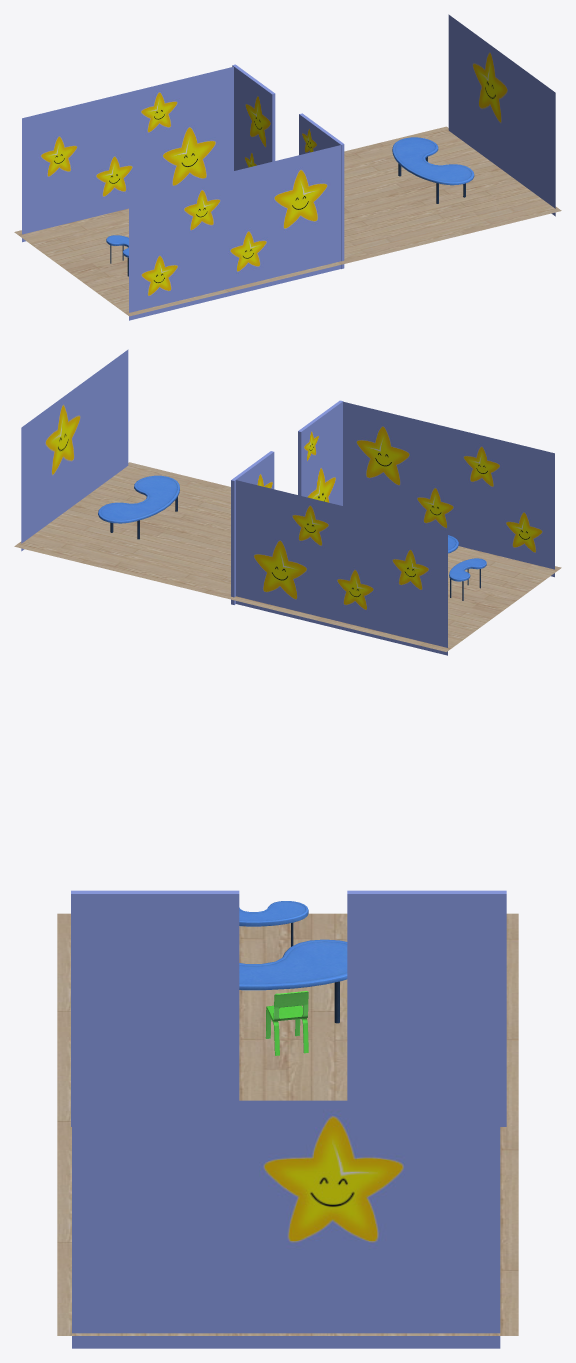
Rendered from jiaoshi.fbx.
The picture shows the model from 3 angles, top to bottom: view 1: azimuth 30°, elevation 25°; view 2: azimuth 150°, elevation 25°; view 3: azimuth 270°, elevation 25°; orthographic projection. The views are drawn at different scales.
Parts seen in each view (by area): view 1: jiaoshi, jiaoshi_dibang, zhuozi1; view 2: jiaoshi, jiaoshi_dibang, zhuozi1, zhuozi2; view 3: jiaoshi, jiaoshi_dibang, zhuozi, yizi, zhuozi2.
Part boxes in pixels (box(x1,y1,x2,y2)): jiaoshi: box(22, 14, 555, 320); jiaoshi_dibang: box(14, 126, 561, 316); zhuozi1: box(392, 137, 474, 203); jiaoshi: box(21, 349, 554, 655); jiaoshi_dibang: box(14, 462, 561, 651); zhuozi1: box(98, 475, 179, 539); zhuozi2: box(449, 558, 486, 600); jiaoshi: box(71, 890, 506, 1348); jiaoshi_dibang: box(57, 913, 518, 1335); zhuozi: box(239, 939, 347, 1023); yizi: box(265, 991, 308, 1055); zhuozi2: box(239, 901, 308, 946).
Size of the model in its own units: 1024 by 281 by 473.
